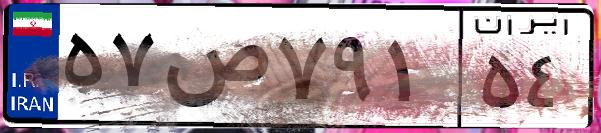1: (385, 28, 445, 110)
4: (525, 38, 570, 115)
5: (57, 26, 110, 100), (475, 38, 525, 113)
7: (270, 28, 330, 110), (110, 28, 158, 98)
9: (330, 28, 385, 110)
ص: (158, 20, 270, 120)
